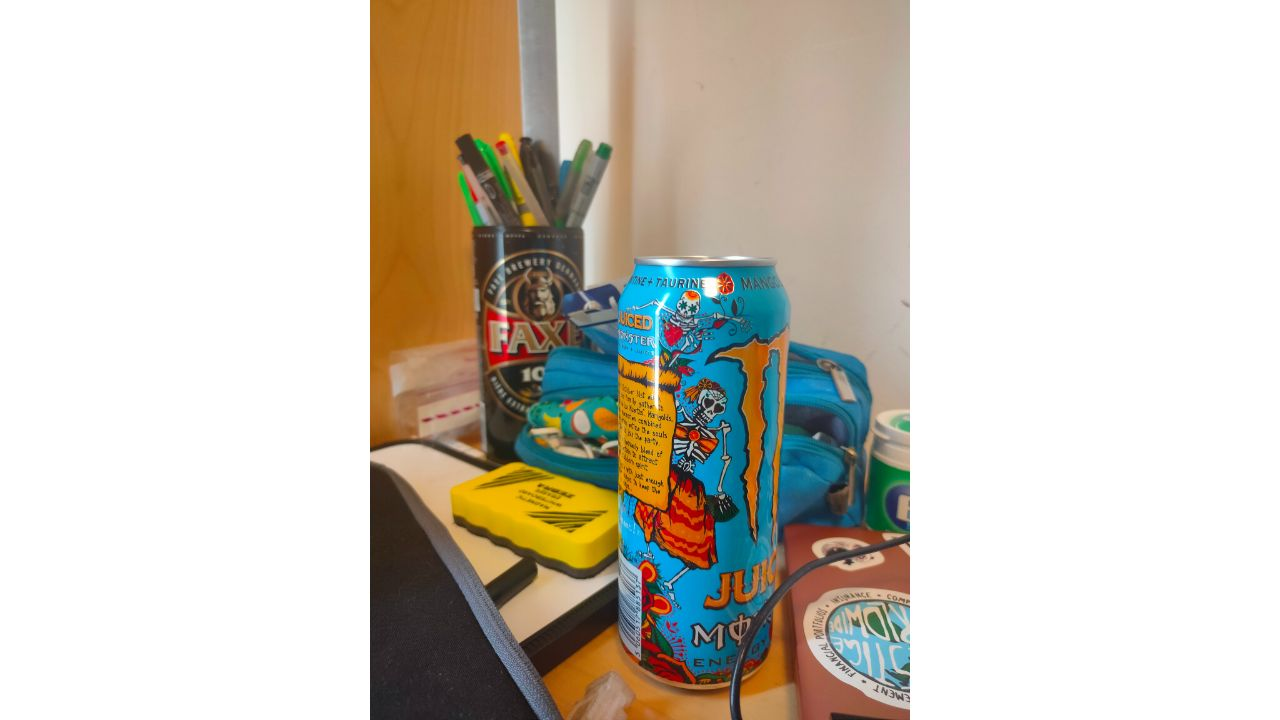Can: (611, 252, 794, 692)
